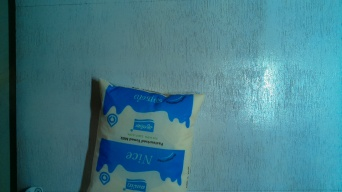m: (87, 74, 199, 192)
